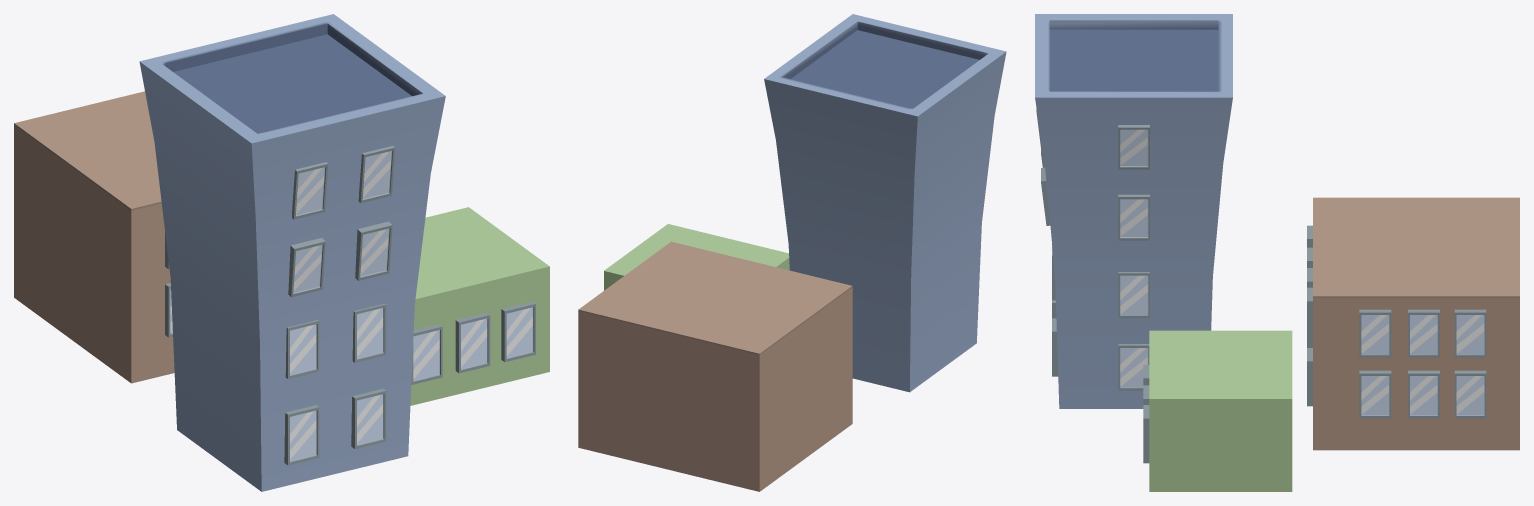
Rendered from Buildings_Map.fbx.
3 renders of one model, left to right at view 1: azimuth 30°, elevation 25°; view 2: azimuth 150°, elevation 25°; view 3: azimuth 270°, elevation 25°, orthographic. The views are drawn at different scales.
Parts seen in each view (by area): view 1: Building_Tall, Building_Med, Building_Small; view 2: Building_Tall, Building_Med, Building_Small; view 3: Building_Tall, Building_Med, Building_Small.
Part boxes in pixels (x1,y1,x2,y2): Building_Tall: (139, 14, 445, 491); Building_Med: (14, 91, 174, 383); Building_Small: (410, 207, 549, 405); Building_Tall: (764, 14, 1006, 392); Building_Med: (578, 241, 852, 491); Building_Small: (604, 224, 789, 290); Building_Tall: (1035, 14, 1232, 408); Building_Med: (1307, 197, 1519, 450); Building_Small: (1143, 330, 1292, 491).
Size of the model in its own units: 9.38 by 9 by 12.3.
